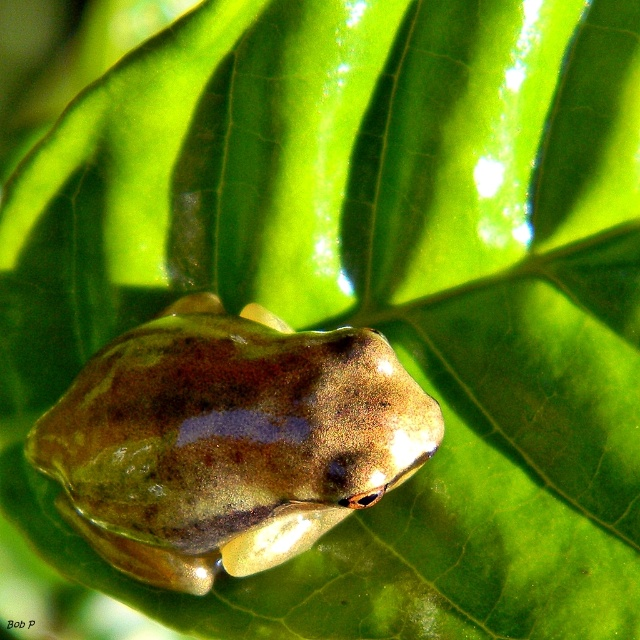Frog: (24, 292, 445, 599)
